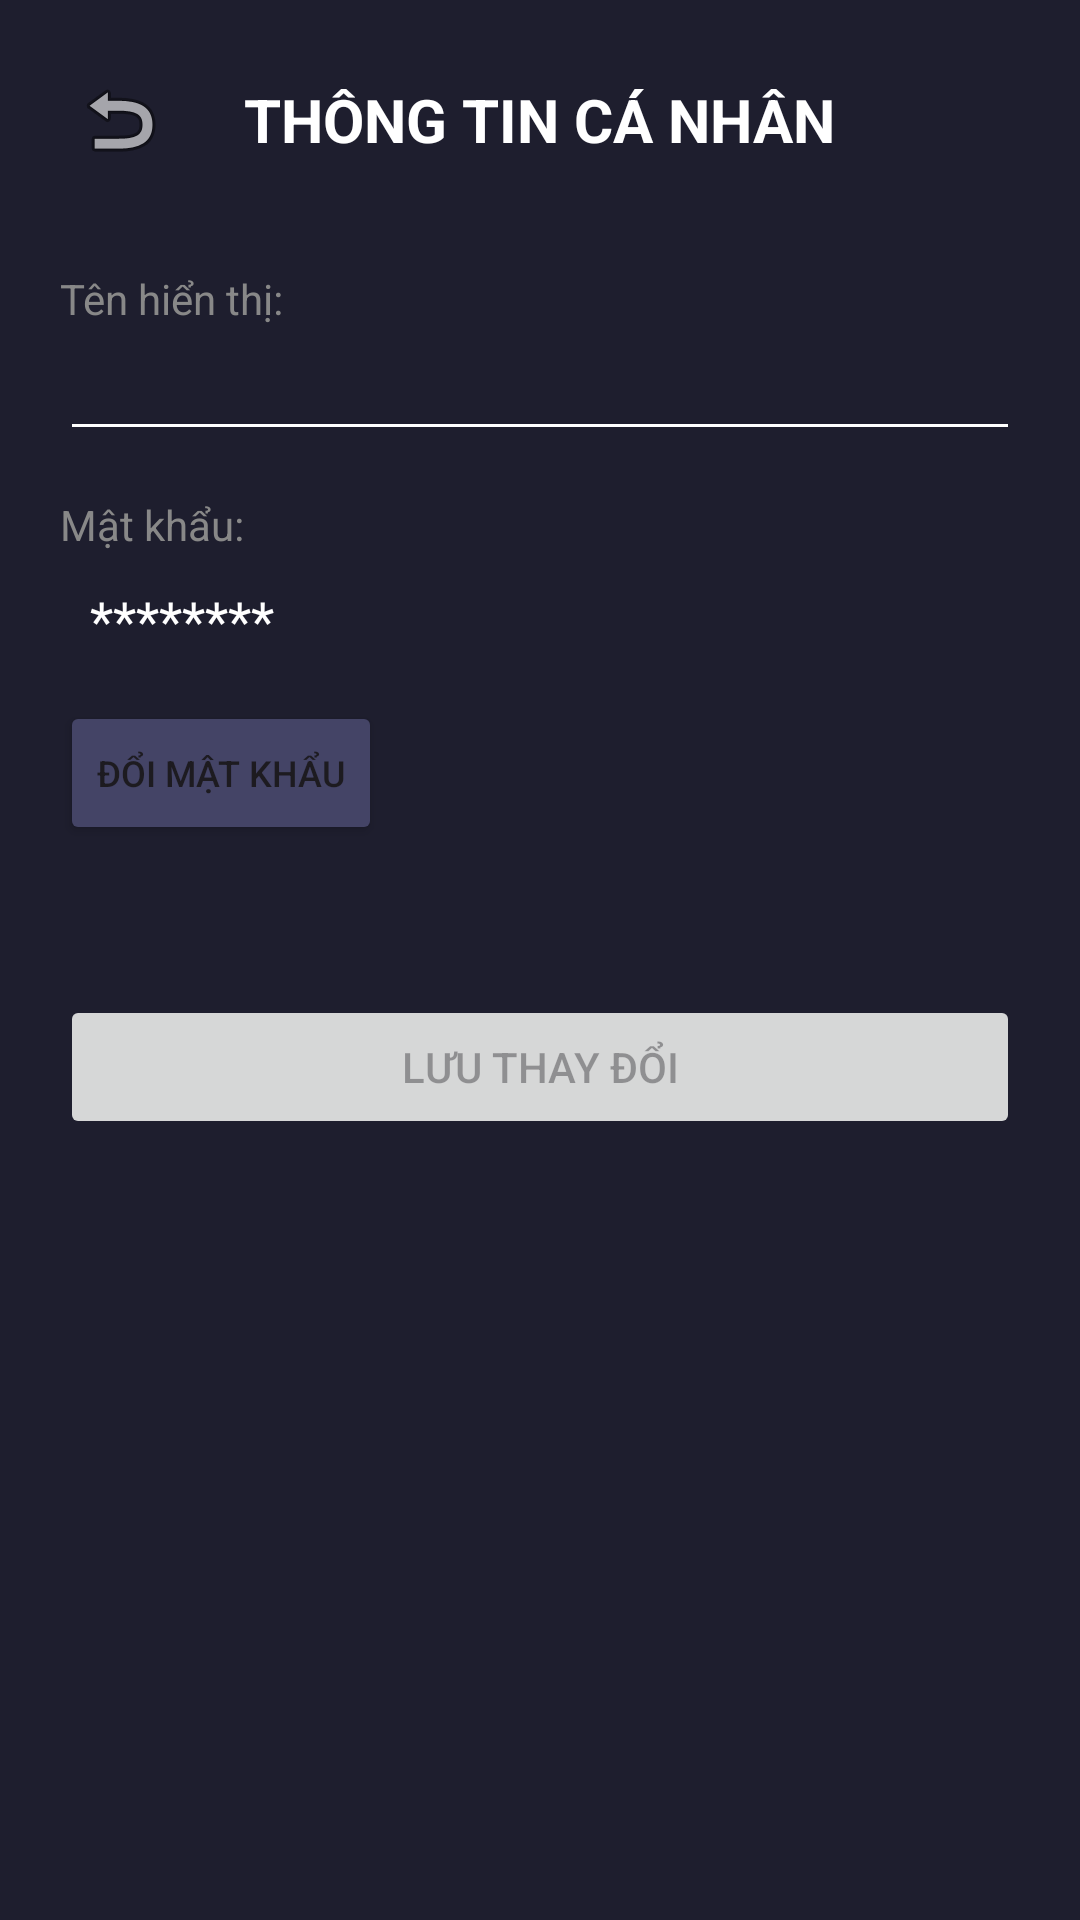

Icon click points for this 1080x1920 phone screenshot, format point (x, y):
Back: point (121, 120)
